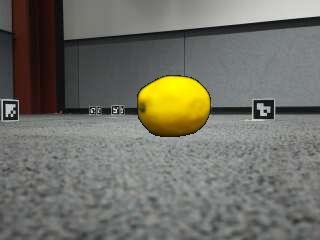lemon: (139, 75, 211, 136)
